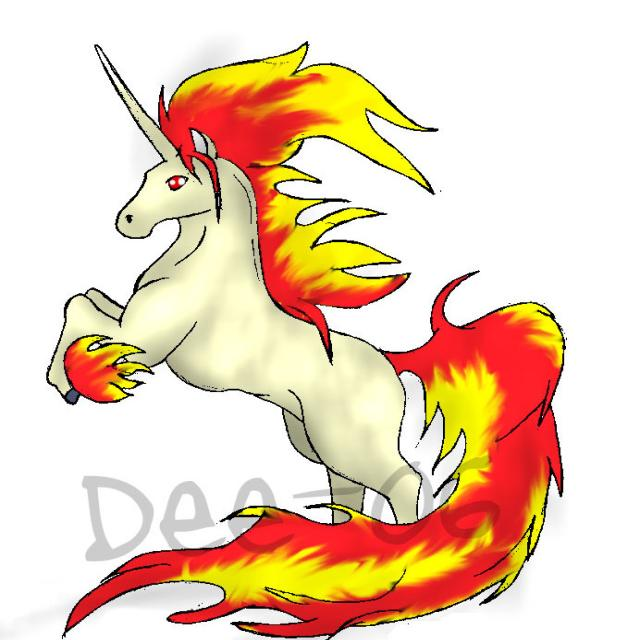Rapidash: (112, 58, 464, 599)
